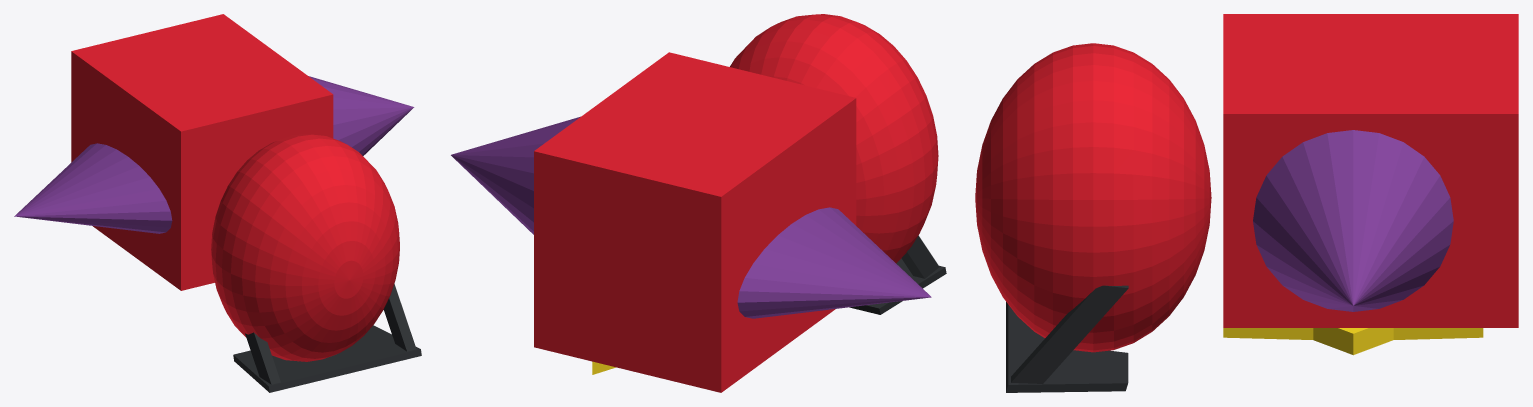
Rendered from tinker.obj.
3 views of the same model, side by side, from view 1: azimuth 30°, elevation 25°; view 2: azimuth 150°, elevation 25°; view 3: azimuth 270°, elevation 25° (orthographic). The views are drawn at different scales.
Parts seen in each view (by area): view 1: group_0_15277357, group_0_8273816, group_0_2829873; view 2: group_0_15277357, group_0_8273816, group_0_2829873; view 3: group_0_15277357, group_0_8273816, group_0_2829873, group_0_16768282.
Part boxes in pixels (bbox=[...]): group_0_15277357: bbox=[71, 14, 399, 361]; group_0_8273816: bbox=[14, 76, 414, 233]; group_0_2829873: bbox=[233, 284, 421, 392]; group_0_15277357: bbox=[534, 14, 938, 392]; group_0_8273816: bbox=[451, 116, 931, 318]; group_0_2829873: bbox=[849, 235, 946, 314]; group_0_15277357: bbox=[975, 14, 1518, 352]; group_0_8273816: bbox=[1253, 130, 1453, 311]; group_0_2829873: bbox=[1006, 285, 1128, 392]; group_0_16768282: bbox=[1223, 328, 1483, 355].
Bounding box in the file's own units: 52 × 27 × 46.
